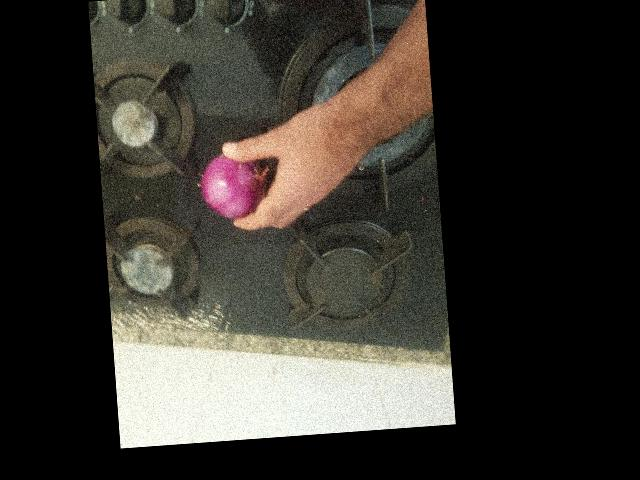onion: (153, 277, 230, 344)
